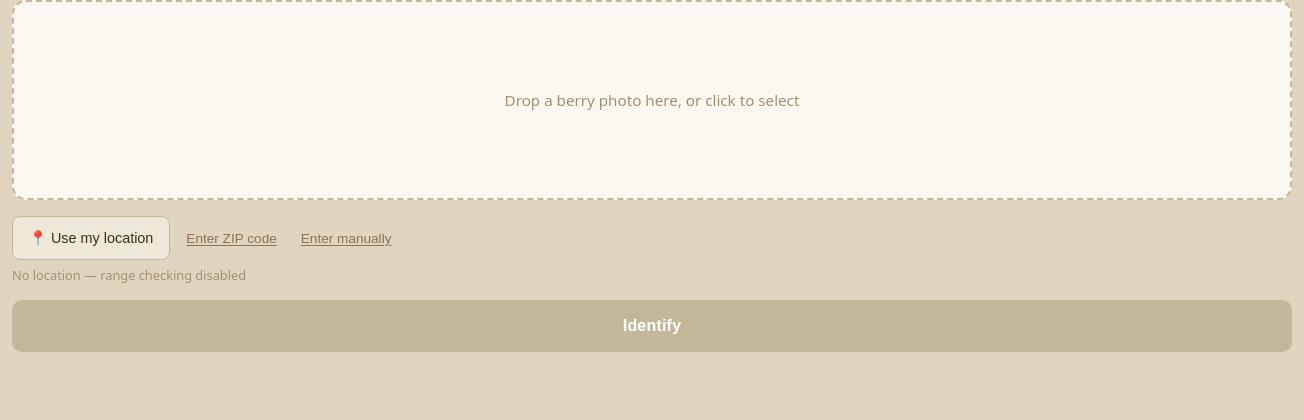
it: manual entry toggle › shows manual inputs when "Enter manually" is clicked
Click the button "Enter manually".
click(346, 238)  # box [293,216,400,260]
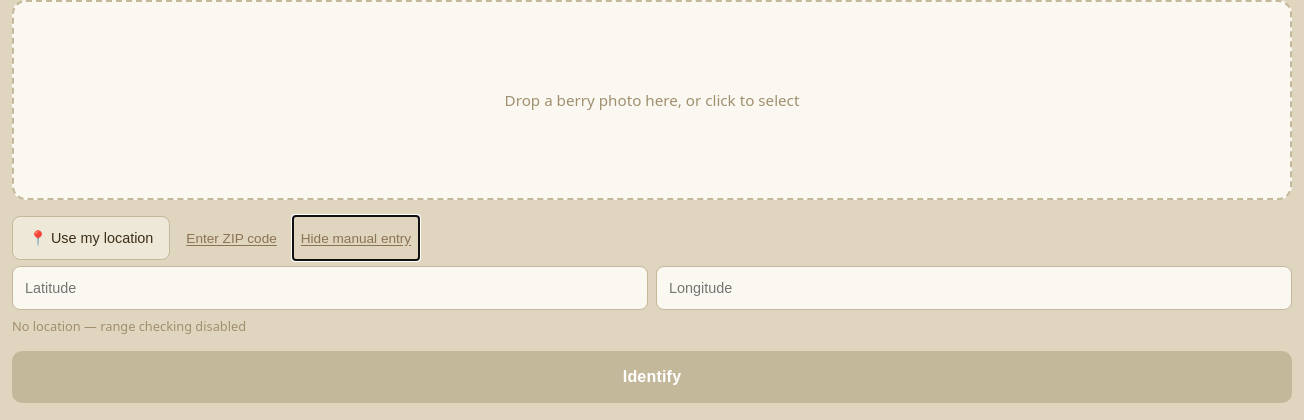
Expected: the field with placeholder "Latitude" is shown, [12,266,648,310]
Expected: the field with placeholder "Longitude" is shown, [656,266,1292,310]
